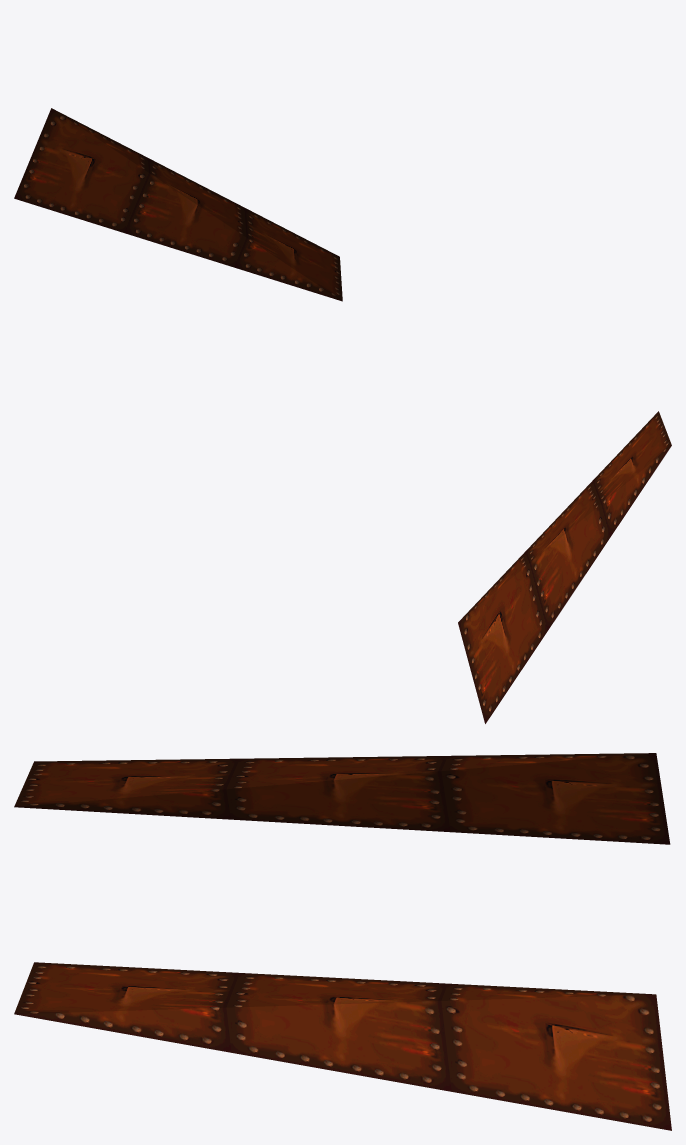
File: Schiff_Heck1_1259.glb
3 renders of one model, top to bottom at view 1: azimuth 30°, elevation 25°; view 2: azimuth 150°, elevation 25°; view 3: azimuth 270°, elevation 25°, orthographic. The views are drawn at different scales.
Visible parts, largest first — view 1: pPlaneShape20; view 2: pPlaneShape20; view 3: pPlaneShape41, pPlaneShape20.
Part boxes in pixels (x1,y1,x2,y2): pPlaneShape20: [14, 108, 342, 301]; pPlaneShape20: [458, 411, 671, 723]; pPlaneShape41: [14, 962, 671, 1130]; pPlaneShape20: [14, 753, 670, 844].
Size of the model in its own units: 2.37 by 0.5142 by 2.3.
2 materials, 2 textured.
